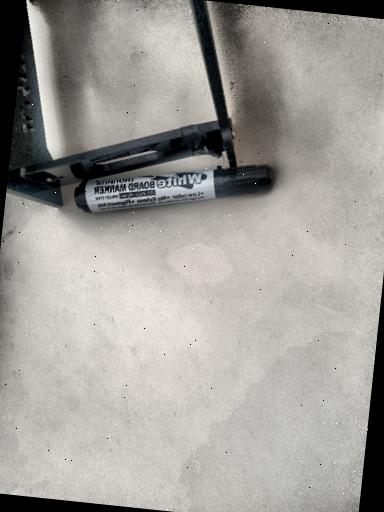marcador negro: (74, 165, 273, 212)
